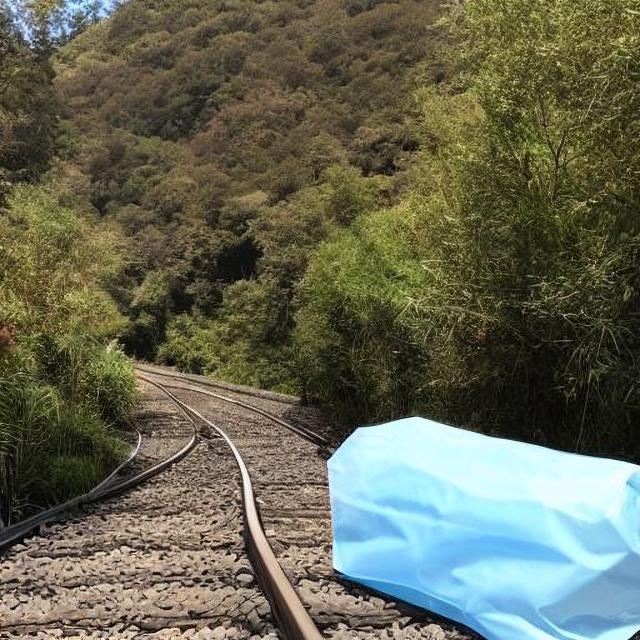plastic bag: (327, 420, 637, 632)
